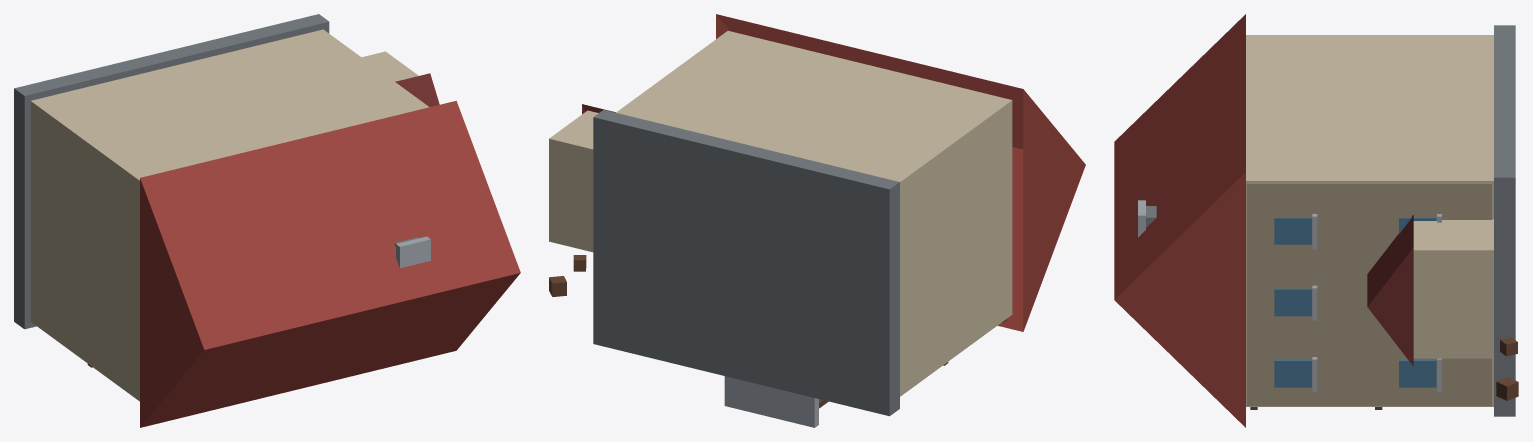
Rendered from worldforge_building_81234.obj.
3 renders of one model, left to right at view 1: azimuth 30°, elevation 25°; view 2: azimuth 150°, elevation 25°; view 3: azimuth 270°, elevation 25°, orthographic. The views are drawn at different scales.
Parts seen in each view (by area): view 1: mainRoof, walls, foundation, chimneyCap, extension, extensionRoof; view 2: foundation, walls, mainRoof, extension, porchDeck; view 3: mainRoof, walls, rightWallTone, extension, foundation, extensionRoof, window_9, window_8, window_10, window_5, crate_0.
Part boxes in pixels (x1=…): mainRoof: x1=140, y1=100, x2=520, y2=427; walls: x1=30, y1=29, x2=429, y2=401; foundation: x1=14, y1=14, x2=329, y2=329; chimneyCap: x1=396, y1=236, x2=430, y2=268; extension: x1=362, y1=51, x2=418, y2=81; extensionRoof: x1=395, y1=73, x2=439, y2=106; foundation: x1=593, y1=110, x2=899, y2=416; walls: x1=616, y1=31, x2=1012, y2=396; mainRoof: x1=716, y1=14, x2=1085, y2=331; extension: x1=549, y1=110, x2=598, y2=252; porchDeck: x1=724, y1=376, x2=818, y2=427; mainRoof: x1=1114, y1=14, x2=1245, y2=427; walls: x1=1246, y1=35, x2=1493, y2=406; rightWallTone: x1=1247, y1=183, x2=1491, y2=405; extension: x1=1413, y1=219, x2=1493, y2=358; foundation: x1=1494, y1=25, x2=1515, y2=416; extensionRoof: x1=1367, y1=215, x2=1413, y2=366; window_9: x1=1274, y1=288, x2=1311, y2=316; window_8: x1=1274, y1=360, x2=1311, y2=387; window_10: x1=1274, y1=217, x2=1311, y2=244; window_5: x1=1399, y1=360, x2=1436, y2=387; crate_0: x1=1496, y1=377, x2=1518, y2=400.
Size of the model in its own units: 8.64 by 6.38 by 7.95.
